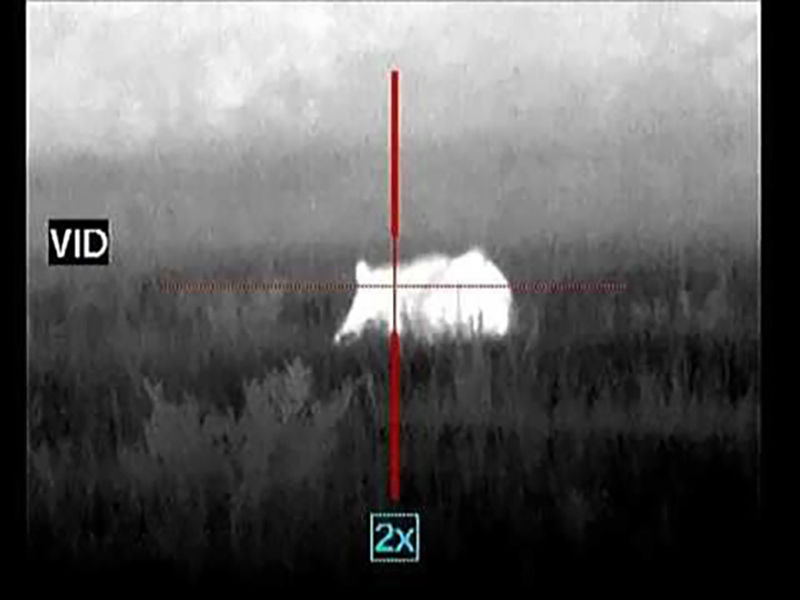cinghiale: (336, 248, 518, 348)
